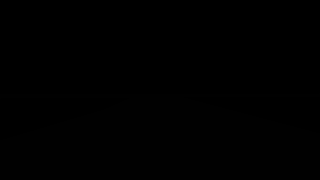turn_left: (179, 74, 187, 83)
